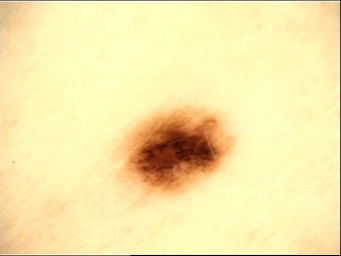nevus: (130, 116, 232, 191)
